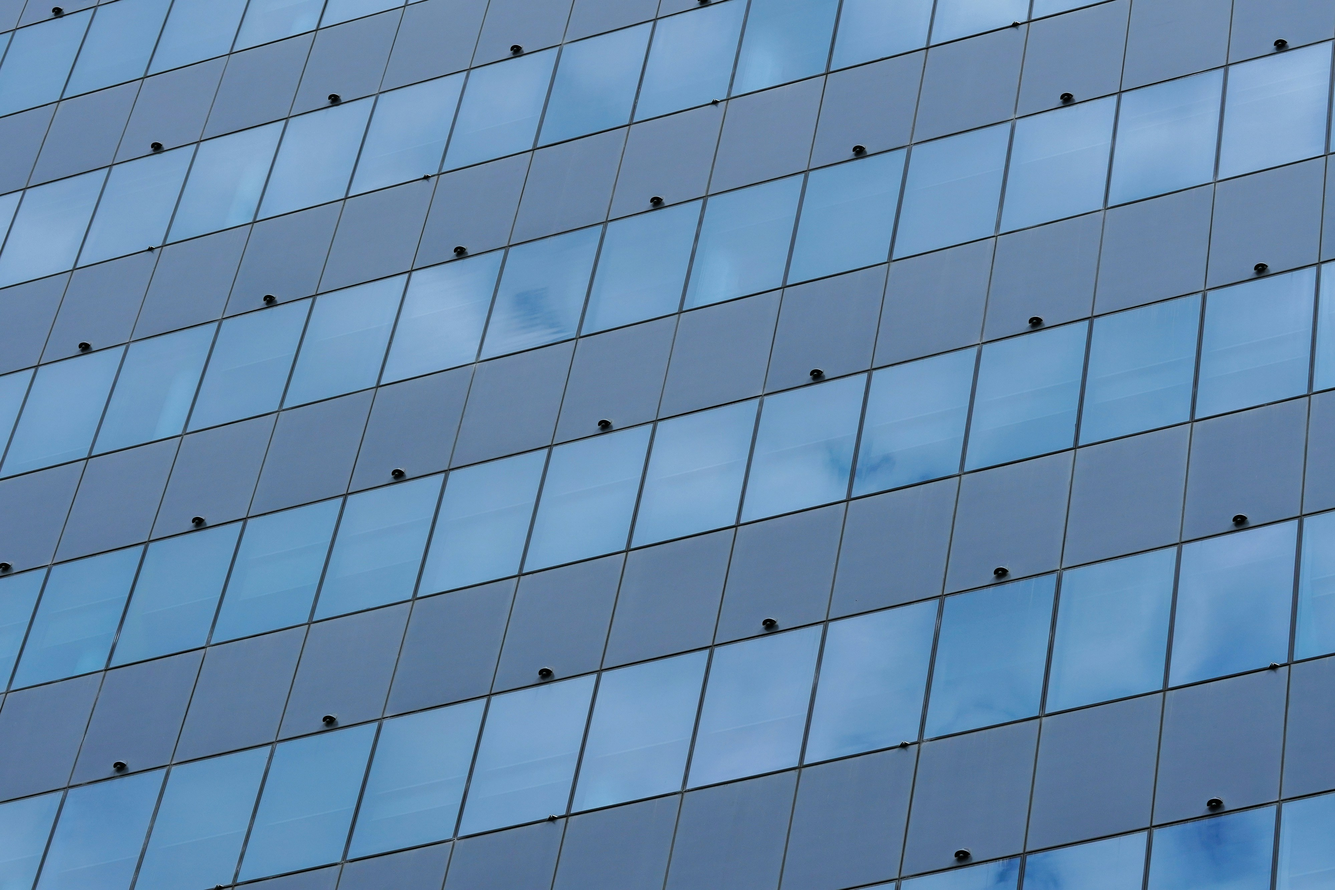glass_panel: (805, 600, 937, 763), (348, 700, 485, 857), (239, 725, 376, 880), (925, 575, 1056, 737), (573, 652, 707, 810), (689, 627, 821, 787), (1047, 548, 1176, 711), (460, 677, 593, 834), (1170, 522, 1297, 685), (135, 746, 270, 890), (111, 523, 241, 665), (315, 475, 443, 619), (213, 499, 341, 642), (525, 425, 650, 571), (742, 375, 866, 521), (14, 547, 143, 687), (1195, 268, 1316, 417), (633, 402, 758, 546), (420, 451, 545, 594), (853, 350, 976, 495), (1080, 296, 1200, 444), (965, 324, 1087, 469), (382, 251, 503, 383), (189, 300, 311, 430), (481, 226, 600, 359), (284, 276, 405, 406), (583, 201, 701, 334), (94, 324, 216, 452), (685, 176, 802, 308), (788, 150, 904, 283), (3, 348, 123, 475), (894, 125, 1009, 257), (1002, 98, 1116, 231), (1108, 71, 1222, 204), (37, 771, 164, 890), (1218, 45, 1330, 178), (80, 147, 193, 265), (351, 74, 463, 193), (635, 0, 746, 119), (260, 99, 372, 216), (540, 24, 650, 143), (445, 50, 555, 168), (171, 122, 281, 240), (0, 171, 106, 286), (1147, 807, 1275, 890), (64, 0, 170, 95), (733, 0, 838, 93), (0, 12, 91, 115), (150, 0, 246, 73), (831, 0, 932, 69), (1024, 833, 1146, 890), (0, 794, 61, 890), (1295, 513, 1335, 658), (1276, 794, 1335, 890), (0, 570, 45, 688), (236, 0, 324, 49), (931, 0, 1028, 43), (900, 857, 1020, 890), (1313, 263, 1335, 390), (0, 370, 34, 449), (321, 0, 404, 27), (1031, 0, 1091, 18), (0, 191, 22, 238)
